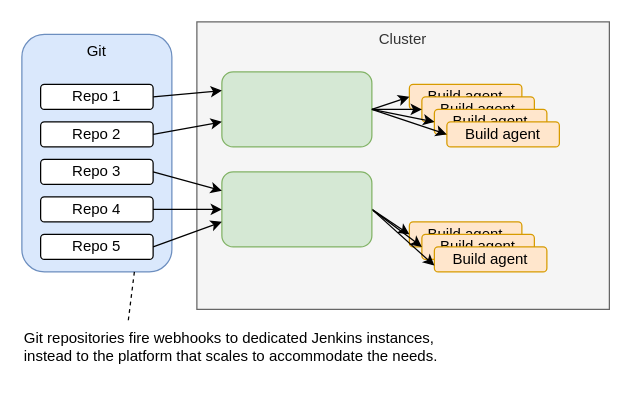
This 631x394 diagram has some shape labels left out. Each missing label, with the centre of its shape:
Jenkins A: point 296,109
Jenkins B: point 296,209
